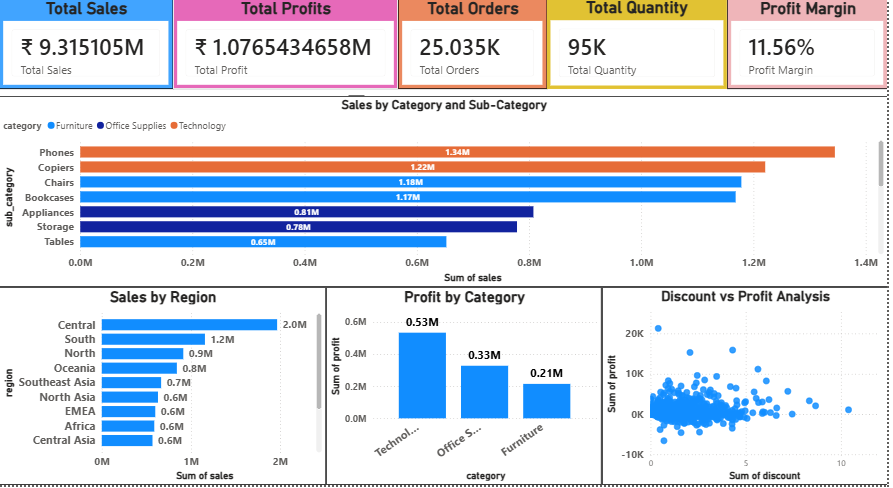

Layout of this report page (visuals, bound fields, positions):
{"tool":"powerbi","page":{"name":"Page 1","canvas":[1280,720],"ordinal":0},"visuals":[{"type":"cardVisual","title":"Total Sales","fields":{"Data":["SuperStoreOrders.Total Sales"]},"box":[0,18.7,250.6,131],"z":0},{"type":"cardVisual","title":"Total Profits","fields":{"Data":["SuperStoreOrders.Total Profit"]},"box":[250.6,18.7,324,131],"z":1000},{"type":"cardVisual","title":"Total Orders","fields":{"Data":["SuperStoreOrders.Total Orders"]},"box":[574.6,18.7,214.6,131],"z":2000},{"type":"cardVisual","title":"Total Quantity","fields":{"Data":["SuperStoreOrders.Total Quantity"]},"box":[789.1,18.7,259.2,131],"z":3000},{"type":"cardVisual","title":"Profit  Margin","fields":{"Data":["SuperStoreOrders.Profit Margin"]},"box":[1048.3,18.7,231.8,131],"z":4000},{"type":"barChart","title":"Sales by Category and Sub-Category","fields":{"Category":["SuperStoreOrders.sub_category"],"Series":["SuperStoreOrders.category"],"Y":["Sum(SuperStoreOrders.sales)"]},"box":[0,159.8,1280.2,275],"z":5000},{"type":"scatterChart","title":"Discount vs Profit Analysis","fields":{"X":["Sum(SuperStoreOrders.discount)"],"Y":["Sum(SuperStoreOrders.profit)"],"Category":["SuperStoreOrders.product_name"]},"box":[868.3,434.9,411.8,285.1],"z":5001},{"type":"columnChart","title":"Profit by Category","fields":{"Category":["SuperStoreOrders.category"],"Y":["Sum(SuperStoreOrders.profit)"]},"box":[470.9,434.9,397.4,285.1],"z":5002},{"type":"barChart","title":"Sales by Region","fields":{"Y":["Sum(SuperStoreOrders.sales)"],"Category":["SuperStoreOrders.region"]},"box":[0,434.9,470.9,285.1],"z":5003}]}

Visuals, with their boxes in screenshot pixels (x1, y1, x2, y2), scaled from the page's 1280x720 canvas onto the 893x488 screenshot:
"Total Sales" cardVisual: pyautogui.locateOnScreen(0, 13, 175, 101)
"Total Profits" cardVisual: pyautogui.locateOnScreen(175, 13, 401, 101)
"Total Orders" cardVisual: pyautogui.locateOnScreen(401, 13, 551, 101)
"Total Quantity" cardVisual: pyautogui.locateOnScreen(551, 13, 731, 101)
"Profit  Margin" cardVisual: pyautogui.locateOnScreen(731, 13, 892, 101)
"Sales by Category and Sub-Category" barChart: pyautogui.locateOnScreen(0, 108, 892, 295)
"Discount vs Profit Analysis" scatterChart: pyautogui.locateOnScreen(606, 295, 892, 487)
"Profit by Category" columnChart: pyautogui.locateOnScreen(329, 295, 606, 487)
"Sales by Region" barChart: pyautogui.locateOnScreen(0, 295, 329, 487)
